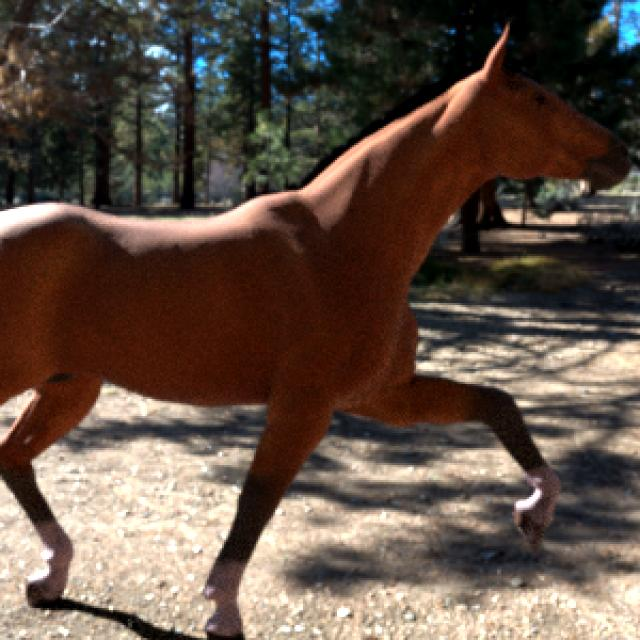horse: (0, 28, 628, 639)
